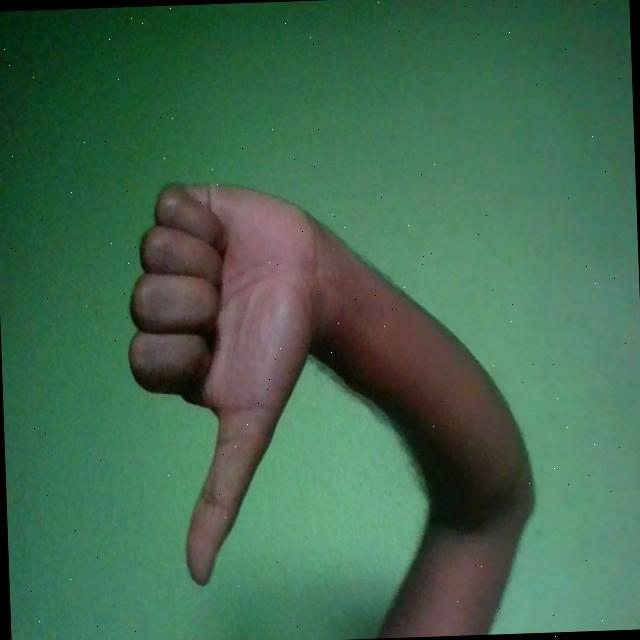Dislike: (125, 174, 336, 590)
